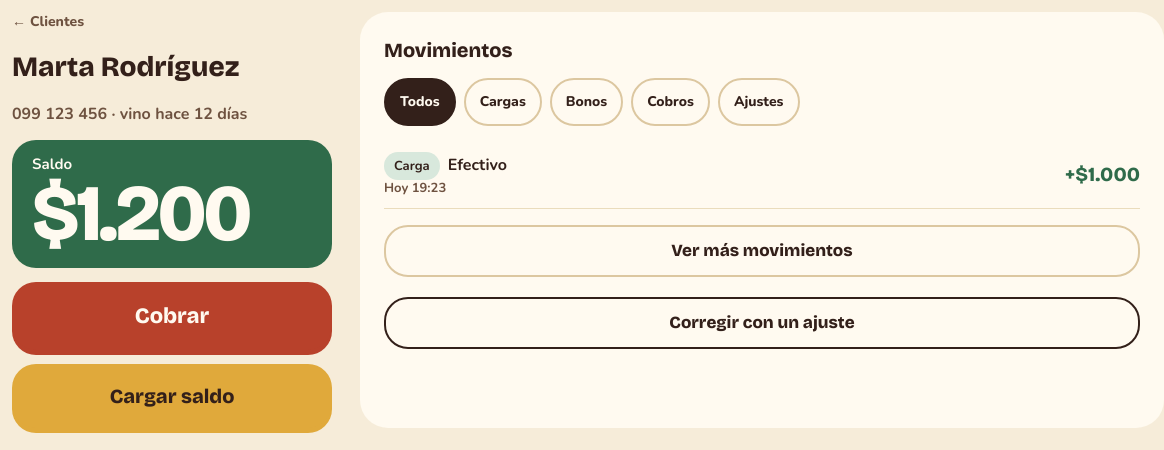
Test case: Ficha del cliente › pagina los movimientos con 'Ver más movimientos'
The image size is (1164, 450).
Click the button "Ver más movimientos" at (762, 251), box [384, 225, 1140, 277]
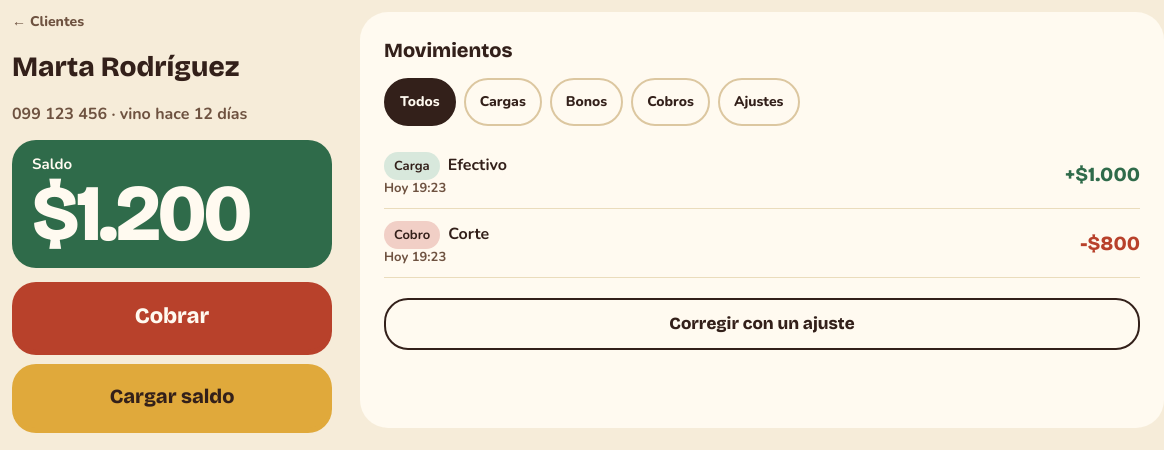
Expected: the text "+$1.000" is shown, [1065, 160, 1140, 188]
Result: the text "-$800" is shown at [1080, 229, 1140, 257]
Result: the button "Ver más movimientos" is gone
